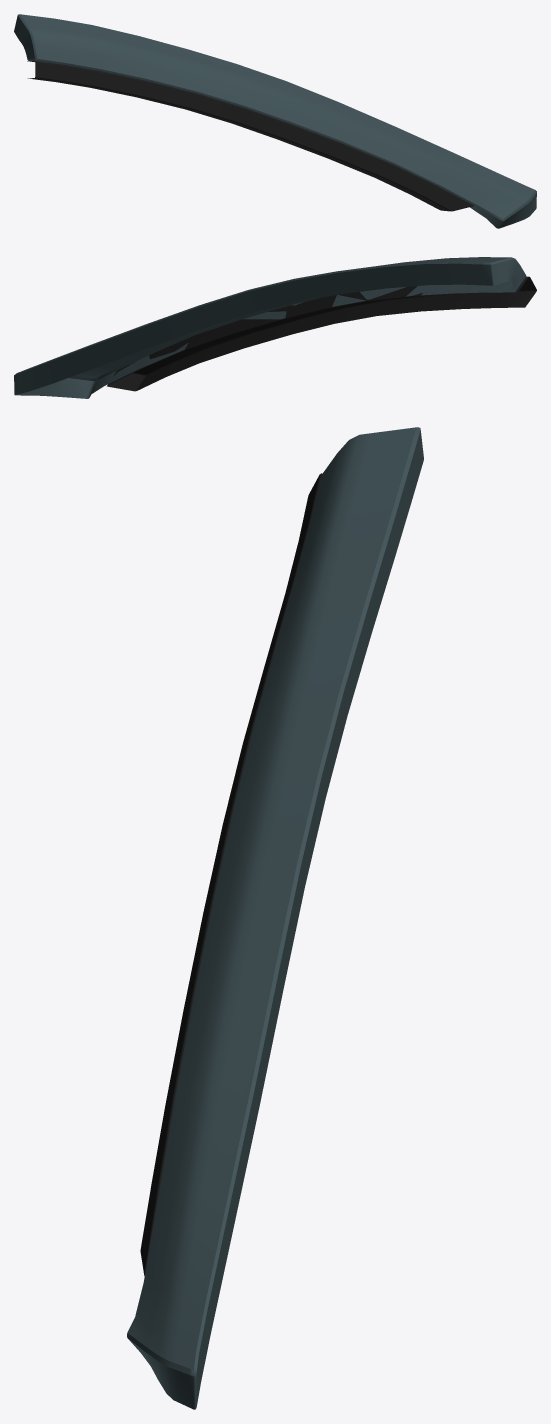
The picture shows the model from 3 angles, top to bottom: view 1: azimuth 30°, elevation 25°; view 2: azimuth 150°, elevation 25°; view 3: azimuth 270°, elevation 25°; orthographic projection. The views are drawn at different scales.
Visible parts, largest first — view 1: P222_15_181C_R_1_DaS_P222_15_181C_R, P222_15_181C_R_P222_15_181C_R_2_D, P222_15_181C_R_1_DaS_P222_15_181C_R_E; view 2: P222_15_181C_R_1_DaS_P222_15_181C_R, P222_15_181C_R_P222_15_181C_R_2_D, P222_15_181C_R_1_DaS_P222_15_181C_R_E; view 3: P222_15_181C_R_1_DaS_P222_15_181C_R, P222_15_181C_R_P222_15_181C_R_2_D, P222_15_181C_R_1_DaS_P222_15_181C_R_E.
Part boxes in pixels (x1,y1,x2,y2): P222_15_181C_R_1_DaS_P222_15_181C_R: [14, 14, 536, 228]; P222_15_181C_R_P222_15_181C_R_2_D: [27, 60, 473, 211]; P222_15_181C_R_1_DaS_P222_15_181C_R_E: [18, 14, 536, 221]; P222_15_181C_R_1_DaS_P222_15_181C_R: [14, 257, 526, 398]; P222_15_181C_R_P222_15_181C_R_2_D: [107, 276, 536, 391]; P222_15_181C_R_1_DaS_P222_15_181C_R_E: [15, 257, 525, 380]; P222_15_181C_R_1_DaS_P222_15_181C_R: [127, 427, 423, 1409]; P222_15_181C_R_P222_15_181C_R_2_D: [140, 473, 322, 1275]; P222_15_181C_R_1_DaS_P222_15_181C_R_E: [127, 427, 420, 1376].
Bounding box in the file's own units: 72.94 × 39.33 × 19.82.
